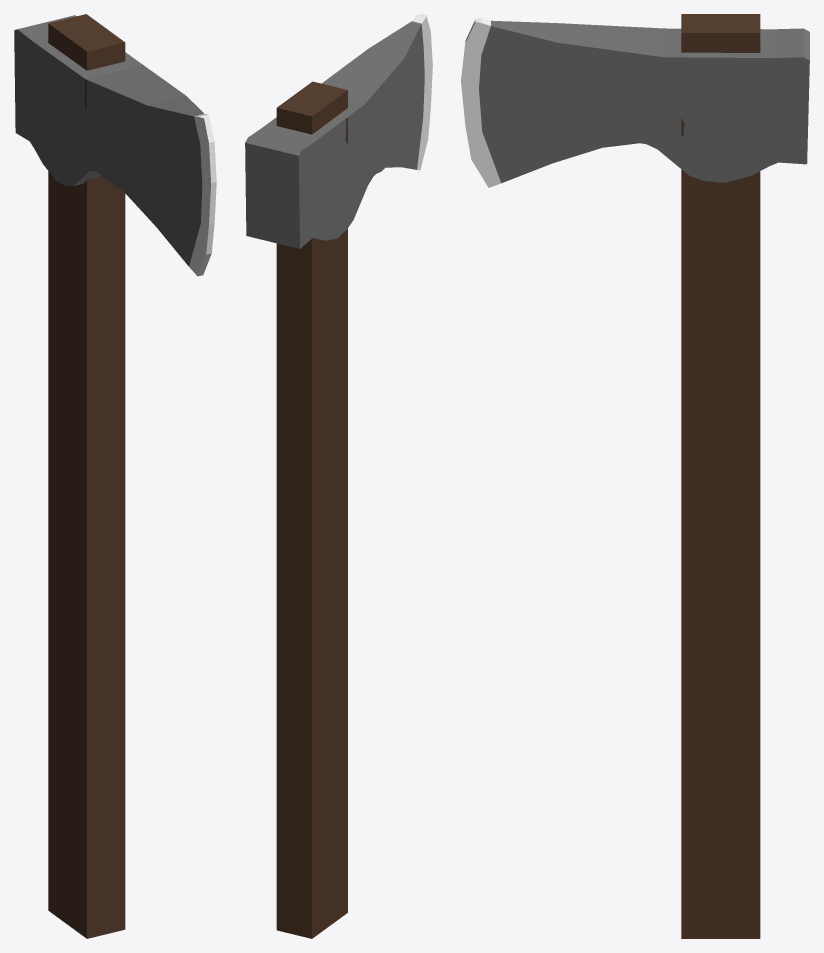
File: axe.fbx
3 views of the same model, side by side, from view 1: azimuth 30°, elevation 25°; view 2: azimuth 150°, elevation 25°; view 3: azimuth 270°, elevation 25° (orthographic). The views are drawn at different scales.
Visible parts, largest first — view 1: Handle, Axe; view 2: Handle, Axe; view 3: Handle, Axe.
Boxes of the visible parts, left/top/right/bottom form: Handle: left=48, top=14, right=125, bottom=938; Axe: left=14, top=15, right=216, bottom=276; Handle: left=276, top=81, right=347, bottom=938; Axe: left=245, top=14, right=432, bottom=248; Handle: left=681, top=14, right=760, bottom=938; Axe: left=461, top=17, right=809, bottom=187.
Bounding box in the file's own units: 24.25 × 356 × 124.
